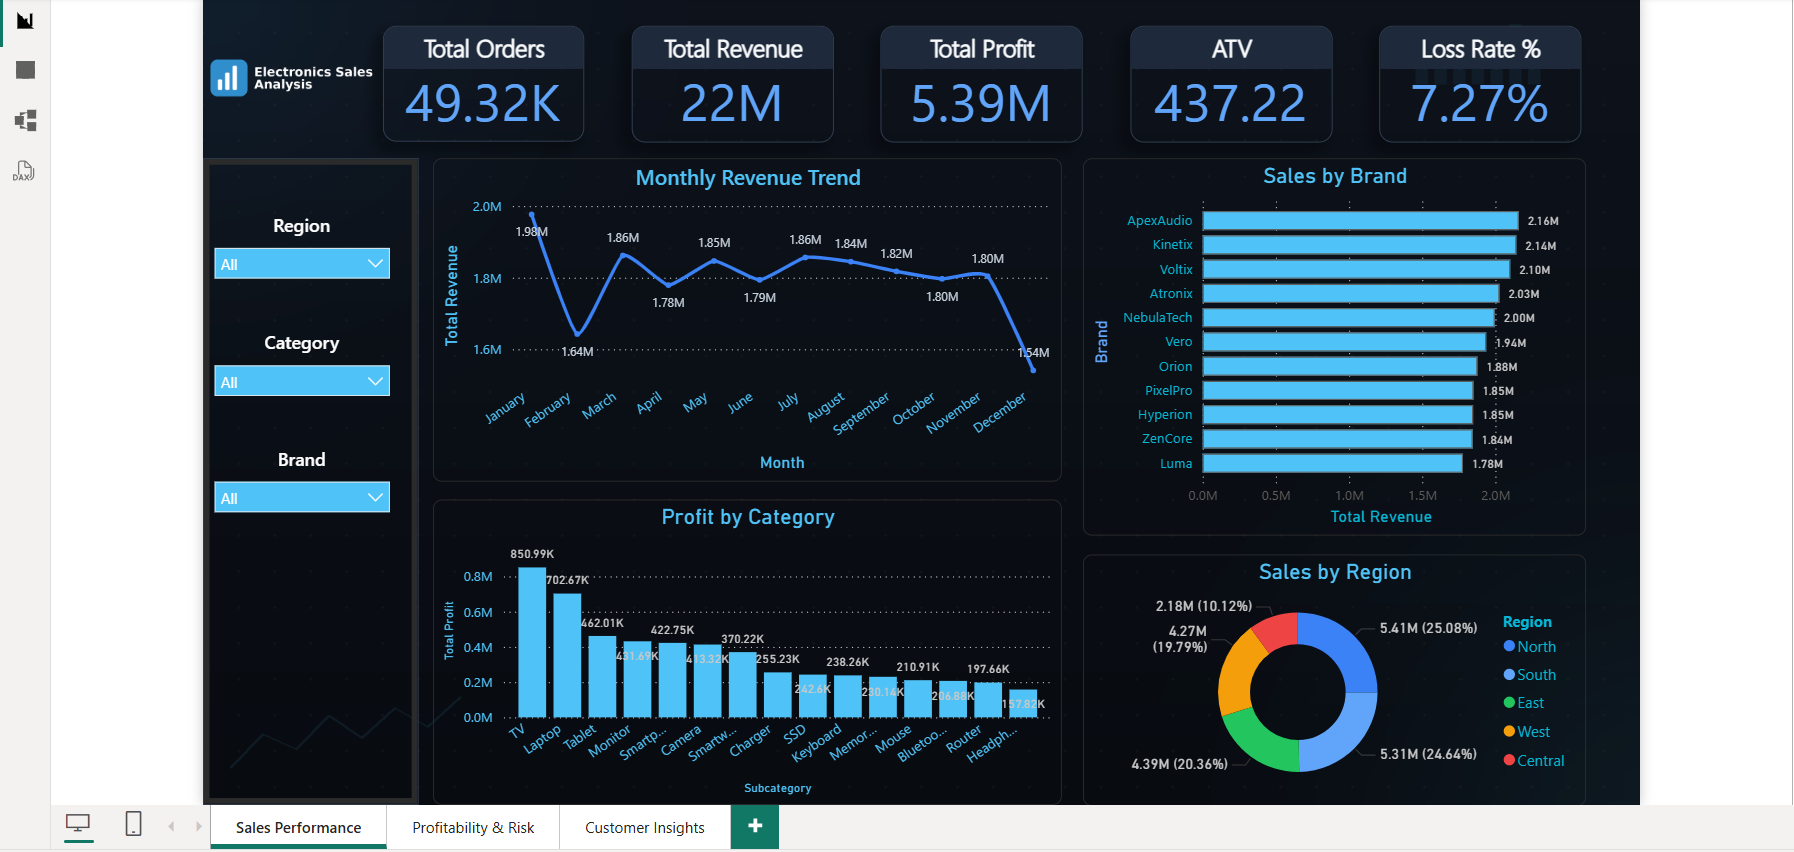

What the dashboard file says about the page in this screenshot:
{"tool":"powerbi","page":{"name":"New main ","canvas":[1280,720],"ordinal":0},"visuals":[{"type":"card","title":"Total Orders","fields":{"Values":["final_dashboard_data.Total Orders"]},"box":[160,25.9,179,103],"z":0},{"type":"card","title":"Loss Rate %","fields":{"Values":["final_dashboard_data.Loss Rate %"]},"box":[1047.8,25.9,179.8,103.8],"z":1000},{"type":"card","title":"ATV","fields":{"Values":["final_dashboard_data.Avg Order Value"]},"box":[825.7,25.9,179.8,103.8],"z":2000},{"type":"card","title":"Total Profit","fields":{"Values":["final_dashboard_data.Total Profit"]},"box":[603.5,25.9,179.8,103.8],"z":3000},{"type":"card","title":"Total Revenue","fields":{"Values":["final_dashboard_data.Total Revenue"]},"box":[381.4,25.9,179.8,103.8],"z":4000},{"type":"lineChart","title":"Monthly Revenue Trend","fields":{"Category":["final_dashboard_data.Order_Date.Variation.Date Hierarchy.Month"],"Y":["final_dashboard_data.Total Revenue"]},"box":[205.3,143.3,560,288],"z":5000},{"type":"clusteredColumnChart","title":"Profit by Category","fields":{"Category":["final_dashboard_data.Subcategory"],"Y":["final_dashboard_data.Total Profit"]},"box":[205.3,447.3,560,272],"z":6000},{"type":"clusteredBarChart","title":"Sales by Brand","fields":{"Category":["final_dashboard_data.Brand"],"Y":["final_dashboard_data.Total Revenue"]},"box":[784,144,448,336],"z":7000},{"type":"donutChart","title":"Sales by Region","fields":{"Y":["final_dashboard_data.Total Revenue"],"Category":["final_dashboard_data.Region"]},"box":[784,496,448,224],"z":8000},{"type":"shape","box":[0,144,192,576],"z":9000},{"type":"slicer","title":"Region","fields":{"Values":["final_dashboard_data.Customer_Age_Group"]},"box":[0,192,176,80],"z":10000},{"type":"slicer","title":"Category","fields":{"Values":["final_dashboard_data.Customer_Gender"]},"box":[0,296.5,176,79],"z":11000},{"type":"slicer","title":"Brand","fields":{"Values":["final_dashboard_data.Brand"]},"box":[0,400,176,80],"z":12000},{"type":"image","box":[0,0,160,144],"z":13000}]}

Visuals, with their boxes on the page's 1280x720 design canvas (x1, y1, x2, y2). These are canvas units, not pixel positions in the 1794x852 screenshot, which may show the page scaled, cropped or inside an application window:
"Total Orders" card: locate(160, 26, 339, 129)
"Loss Rate %" card: locate(1048, 26, 1228, 130)
"ATV" card: locate(826, 26, 1006, 130)
"Total Profit" card: locate(604, 26, 783, 130)
"Total Revenue" card: locate(381, 26, 561, 130)
"Monthly Revenue Trend" lineChart: locate(205, 143, 765, 431)
"Profit by Category" clusteredColumnChart: locate(205, 447, 765, 719)
"Sales by Brand" clusteredBarChart: locate(784, 144, 1232, 480)
"Sales by Region" donutChart: locate(784, 496, 1232, 720)
shape: locate(0, 144, 192, 720)
"Region" slicer: locate(0, 192, 176, 272)
"Category" slicer: locate(0, 296, 176, 376)
"Brand" slicer: locate(0, 400, 176, 480)
image: locate(0, 0, 160, 144)
